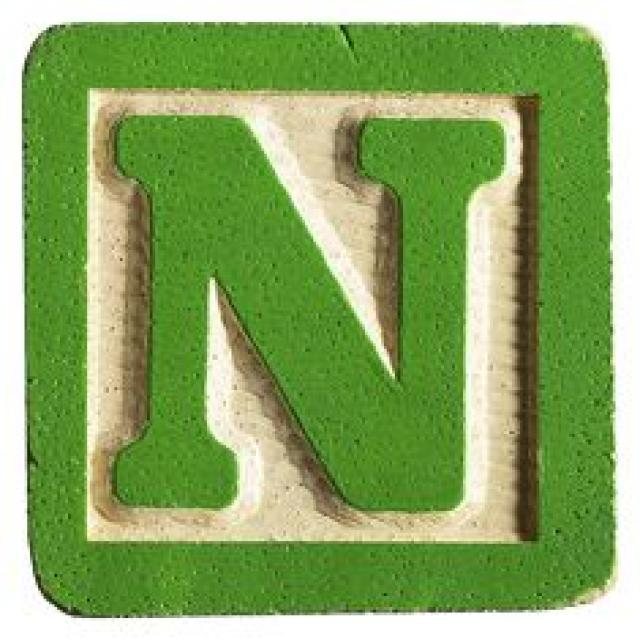N: (102, 98, 496, 535)
